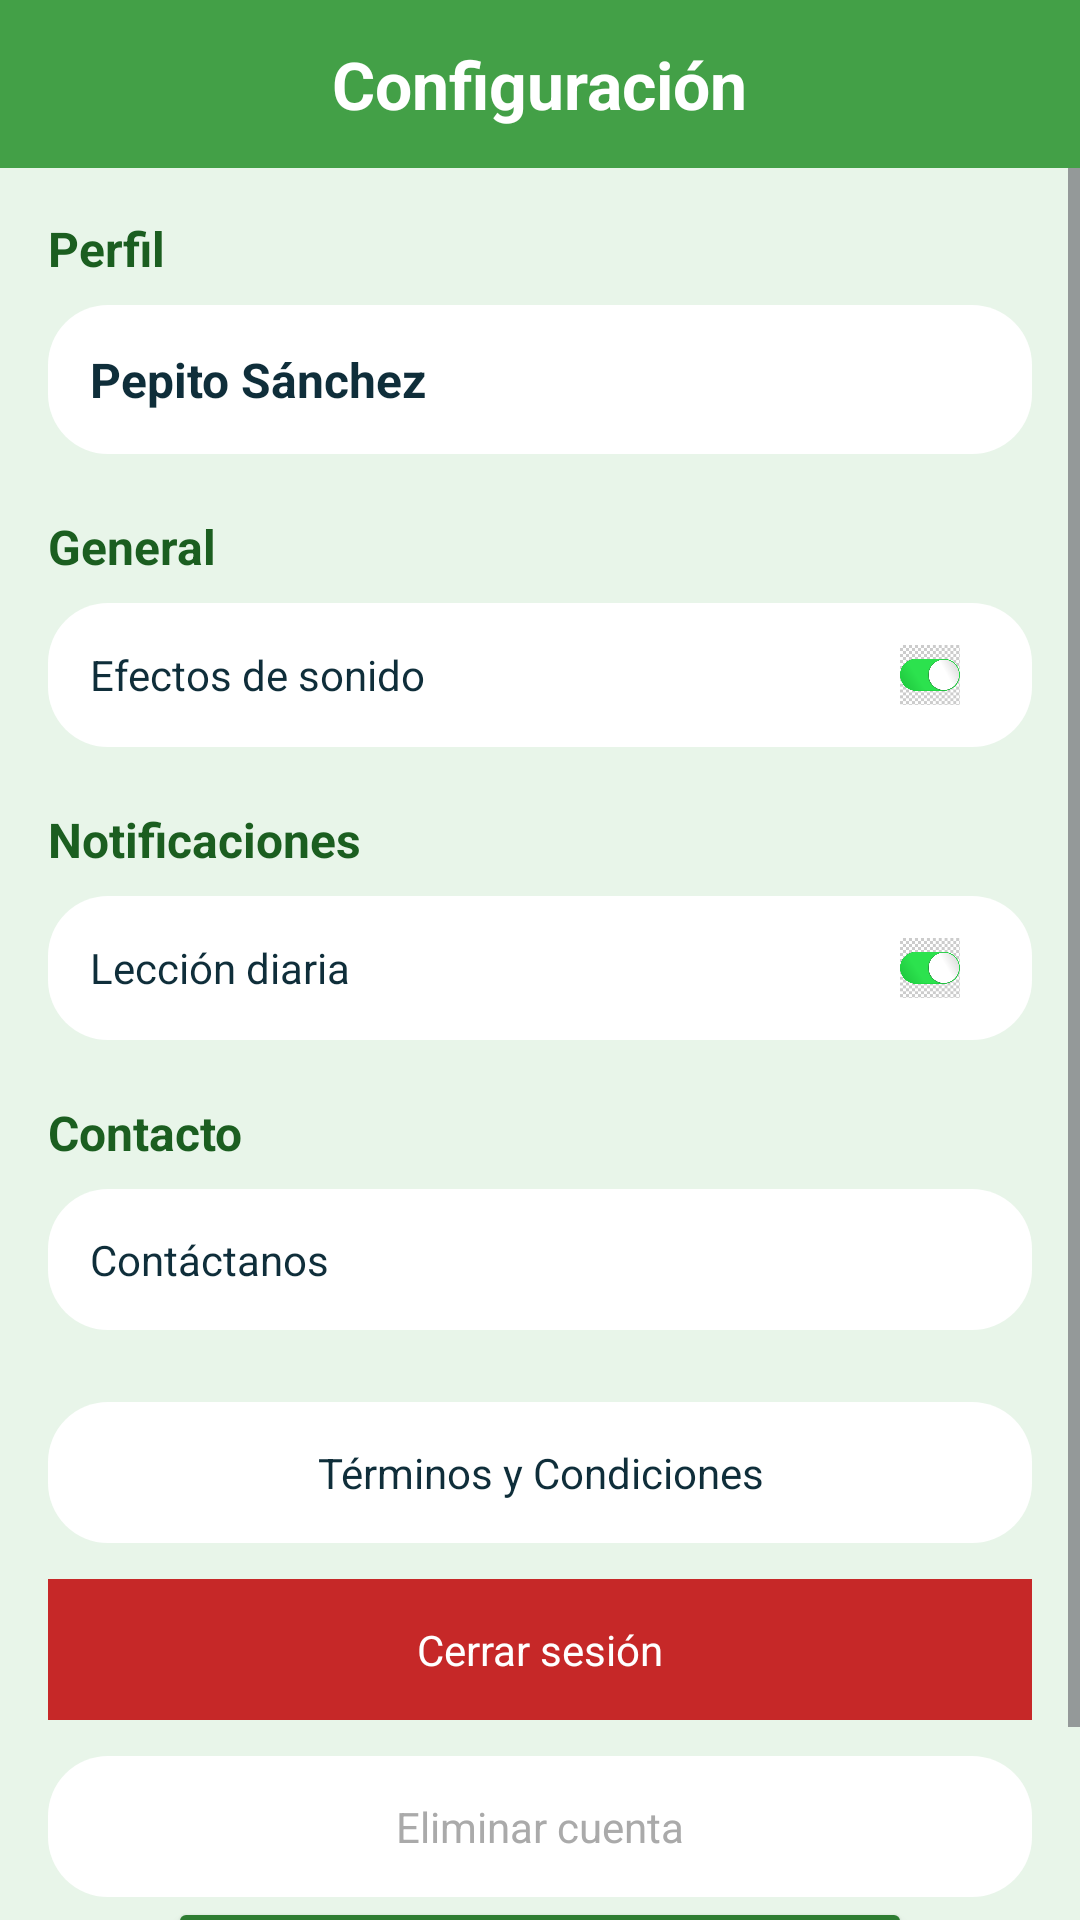

Screen size 1080 x 1920. Icon name, then its box in pixels as {"x1": x1, "y1": y1, "x2": x2, "y2": y2}:
switch on: {"x1": 900, "y1": 645, "x2": 960, "y2": 705}, {"x1": 900, "y1": 938, "x2": 960, "y2": 998}
